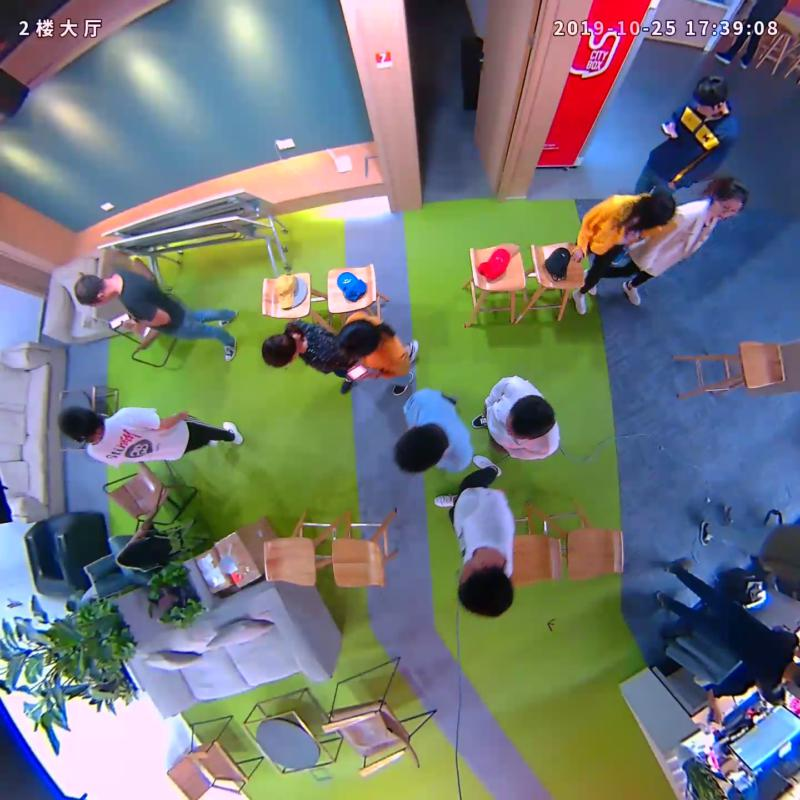head: (457, 557, 514, 618), (394, 424, 449, 475), (507, 395, 557, 439), (335, 319, 382, 357), (709, 179, 748, 221), (58, 406, 101, 444), (691, 73, 728, 117), (637, 190, 677, 228), (260, 332, 299, 368), (74, 273, 113, 308)
